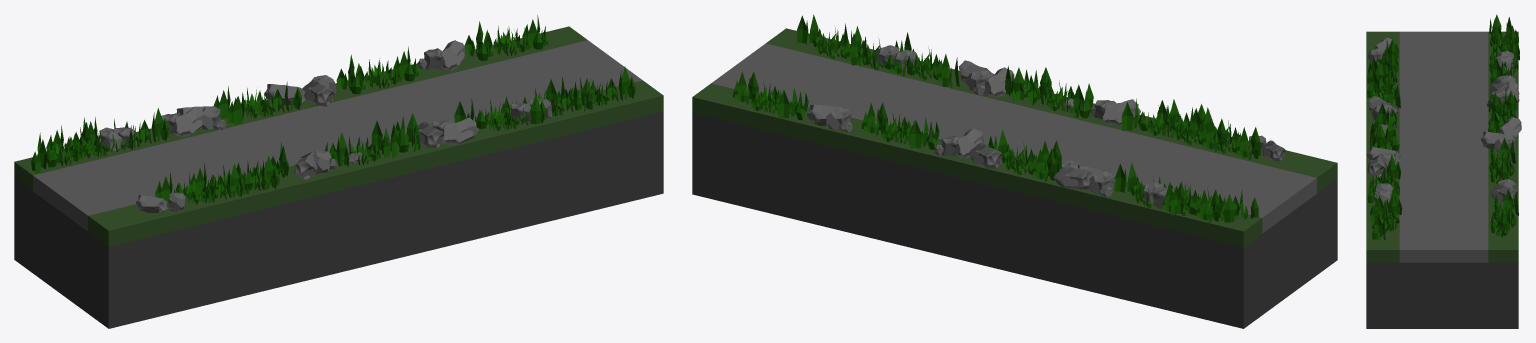
Rendered from Plattform1.fbx.
The picture shows the model from 3 angles, left to right: view 1: azimuth 30°, elevation 25°; view 2: azimuth 150°, elevation 25°; view 3: azimuth 270°, elevation 25°; orthographic projection. The views are drawn at different scales.
Visible parts, largest first — view 1: Cube, Cube.003, Cube.018, Cube.012, Cube.009, Cube.024, Cube.023; view 2: Cube, Cube.015, Cube.023, Cube.006, Cube.009, Cube.024; view 3: Cube, Cube.023, Cube.012, Cube.003, Cube.009, Cube.024, Cube.006, Cube.015, Cube.007, Cube.027, Cube.021, Cube.018 (+13 smaller).
Boxes of the visible parts, x1,y1,x2,y2 form: Cube: (14, 26, 663, 328); Cube.003: (443, 117, 478, 145); Cube.018: (170, 107, 204, 137); Cube.012: (436, 40, 465, 71); Cube.009: (302, 79, 334, 106); Cube.024: (418, 121, 444, 148); Cube.023: (264, 84, 305, 105); Cube: (692, 28, 1337, 328); Cube.015: (1053, 166, 1092, 189); Cube.023: (968, 142, 1002, 168); Cube.006: (1100, 99, 1140, 124); Cube.009: (952, 128, 983, 158); Cube.024: (983, 67, 1014, 97); Cube: (1366, 31, 1518, 328); Cube.023: (1499, 116, 1521, 138); Cube.012: (1490, 183, 1517, 202); Cube.003: (1367, 155, 1386, 177); Cube.009: (1481, 131, 1509, 149); Cube.024: (1367, 147, 1400, 162); Cube.006: (1368, 96, 1399, 114); Cube.015: (1505, 81, 1519, 105); Cube.007: (1494, 135, 1515, 152); Cube.027: (1374, 190, 1391, 204); Cube.021: (1495, 56, 1512, 74); Cube.018: (1489, 78, 1507, 93).
Bounding box in the file's own units: 7082 × 1574 × 2134.
